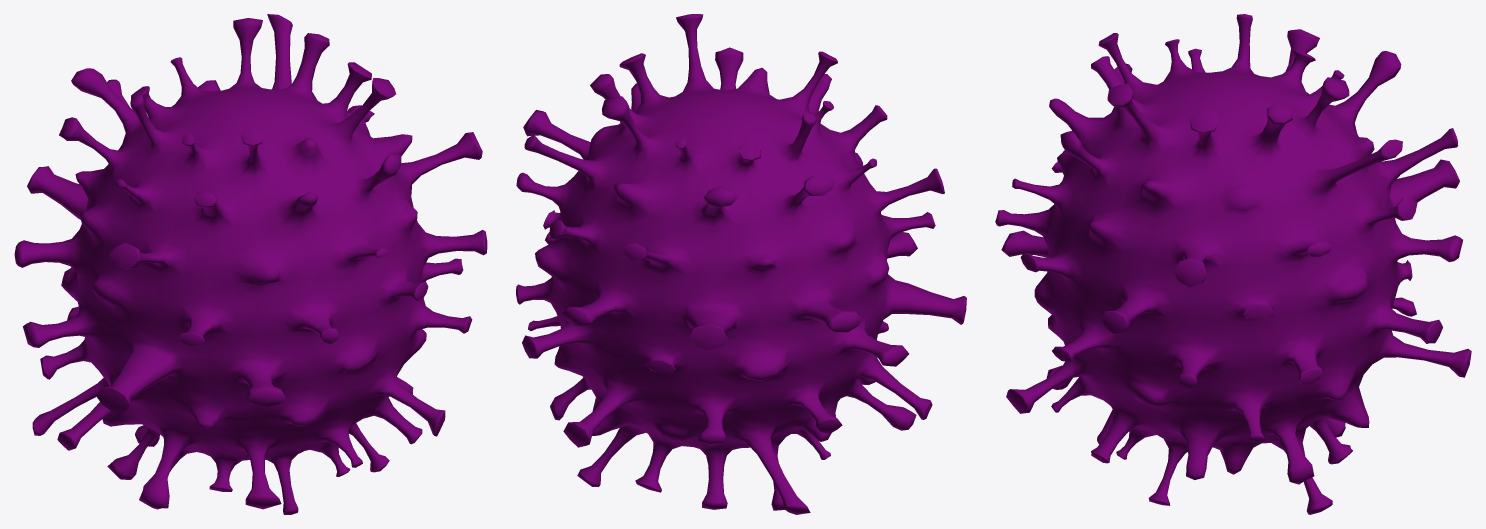
The model's file is virus.fbx.
3 views of the same model, side by side, from view 1: azimuth 30°, elevation 25°; view 2: azimuth 150°, elevation 25°; view 3: azimuth 270°, elevation 25° (orthographic). The views are drawn at different scales.
Parts seen in each view (by area): view 1: pSphere3; view 2: pSphere3; view 3: pSphere3.
Part boxes in pixels (x1,y1,x2,y2): pSphere3: [14, 14, 487, 514]; pSphere3: [516, 14, 966, 514]; pSphere3: [995, 14, 1471, 514].
Size of the model in its own units: 2.77 by 2.68 by 2.7.
